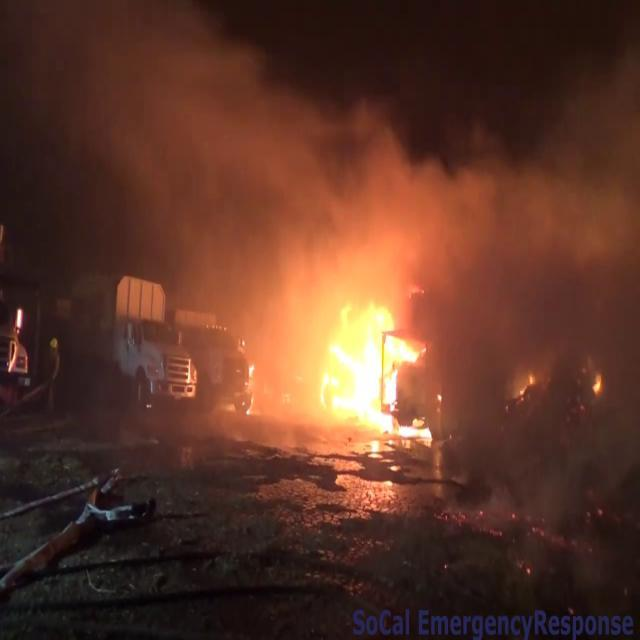Fire: (305, 290, 428, 437)
Smoke: (41, 8, 640, 303)
